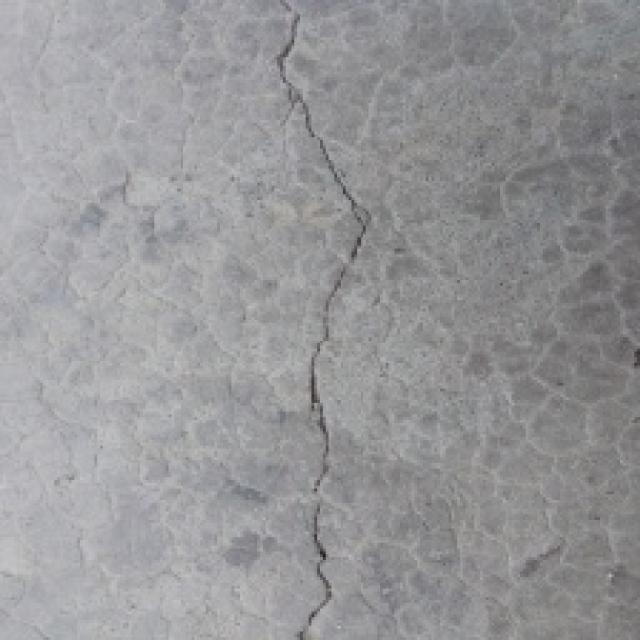crack: (250, 0, 394, 640)
